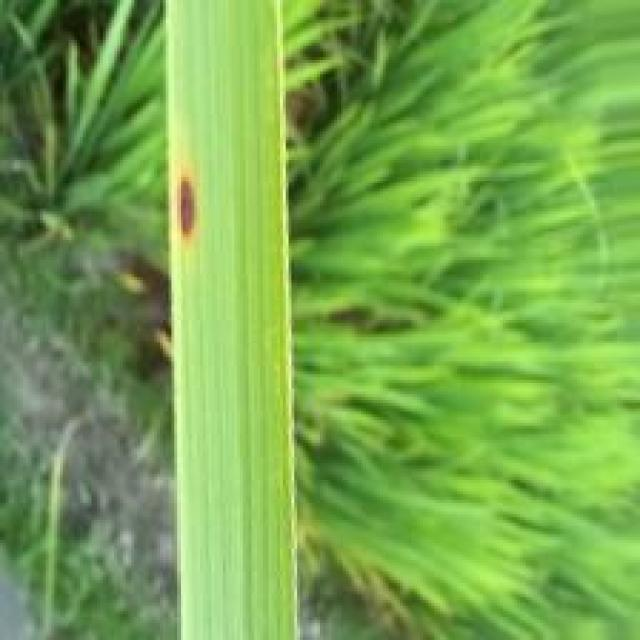Brown_Spot: (175, 166, 202, 247)
